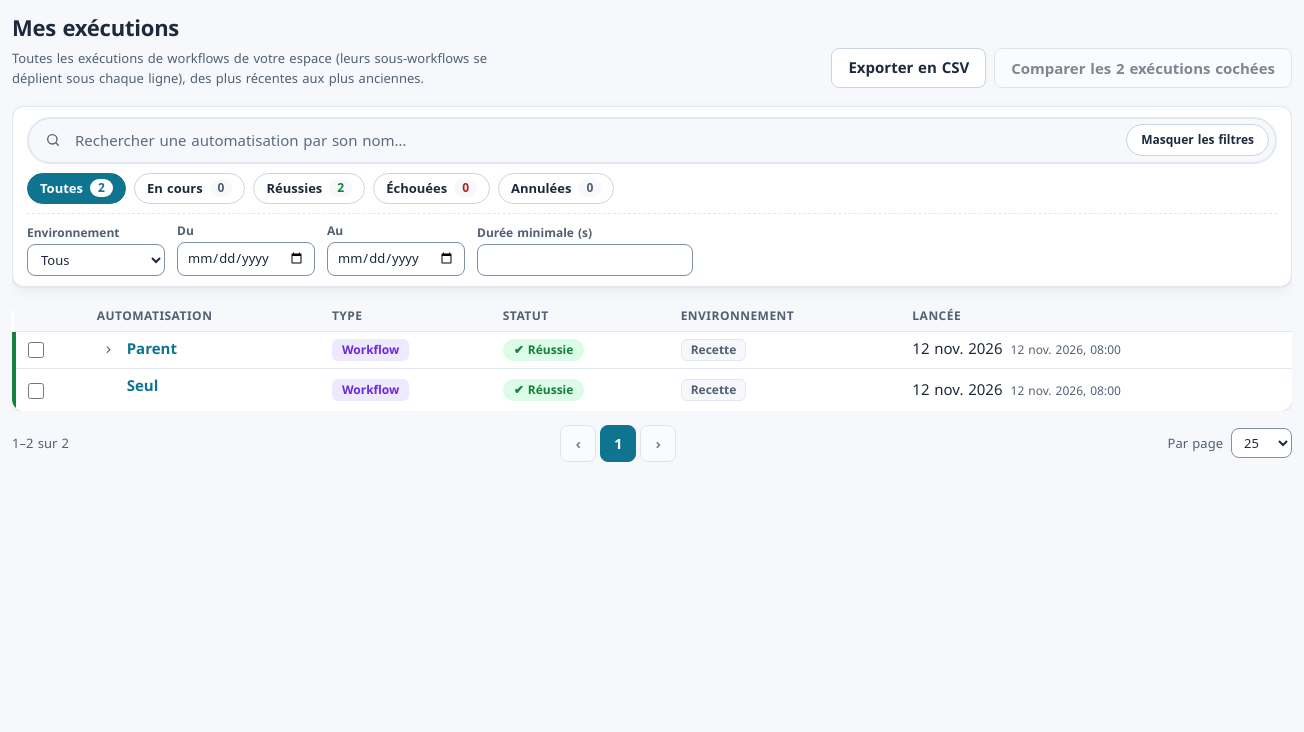
Exécutions : sous-workflows repliables sous leur parent › déplier montre le sous-workflow (étape, type), replier le masque, et un sous-workflow se déplie à son tour
The width and height of the screenshot is (1304, 732).
Step 1. Click the button named "Déplier les sous-workflows de Parent" → [109, 350], box [97, 338, 121, 362]
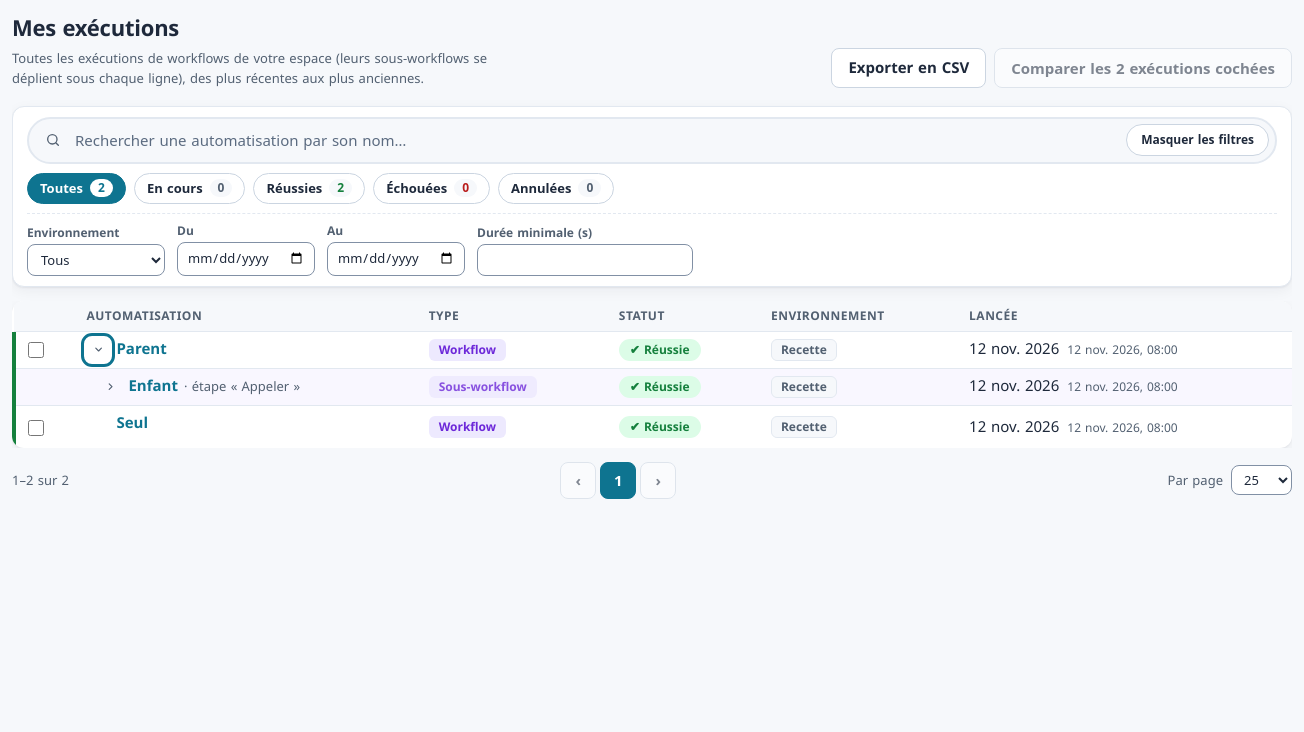
Expected: the text "· étape « Appeler »" is shown, [184, 377, 300, 396]
Expected: the text "Sous-workflow" is shown, [429, 376, 537, 398]
Step 2. Click the button named "Déplier les sous-workflows de Enfant" → [110, 387], box [98, 375, 122, 399]
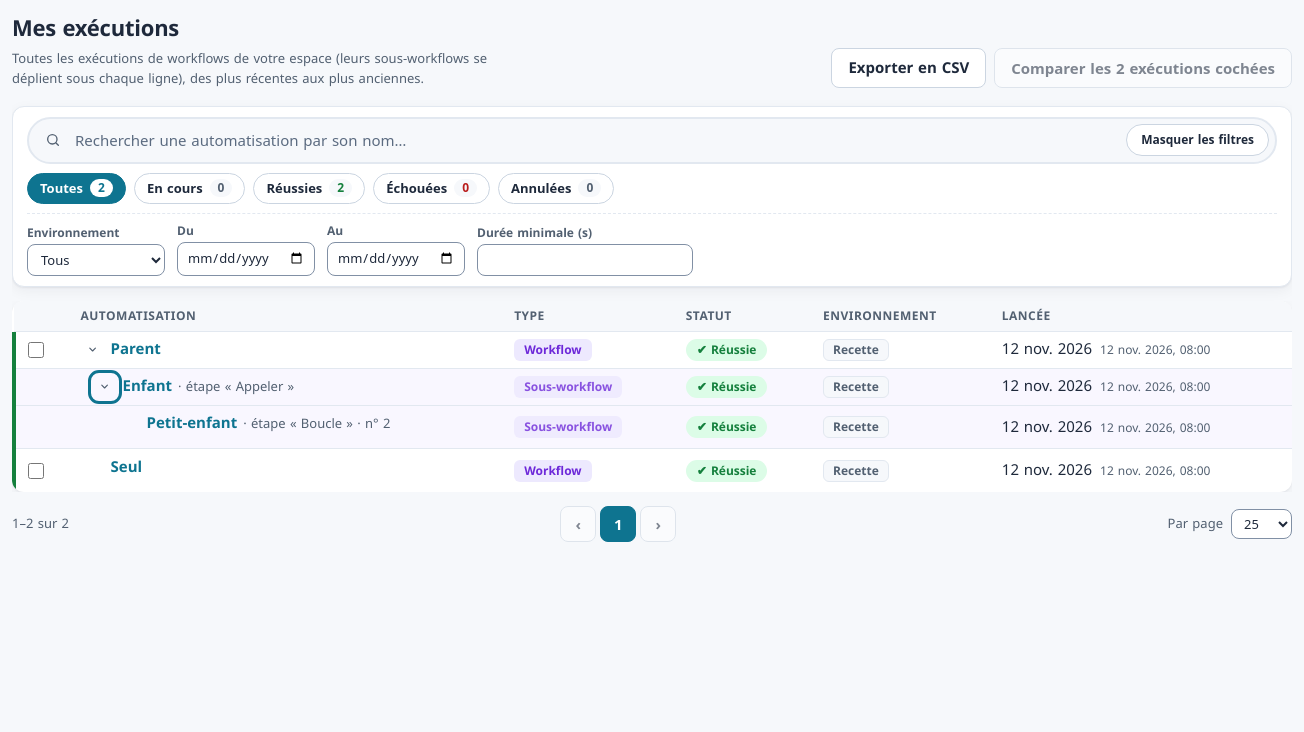
Expected: the text "· étape « Boucle » · n° 2" is shown, [243, 414, 390, 433]
Step 3. Click the button named "Replier les sous-workflows de Parent" → [92, 350], box [80, 338, 104, 362]
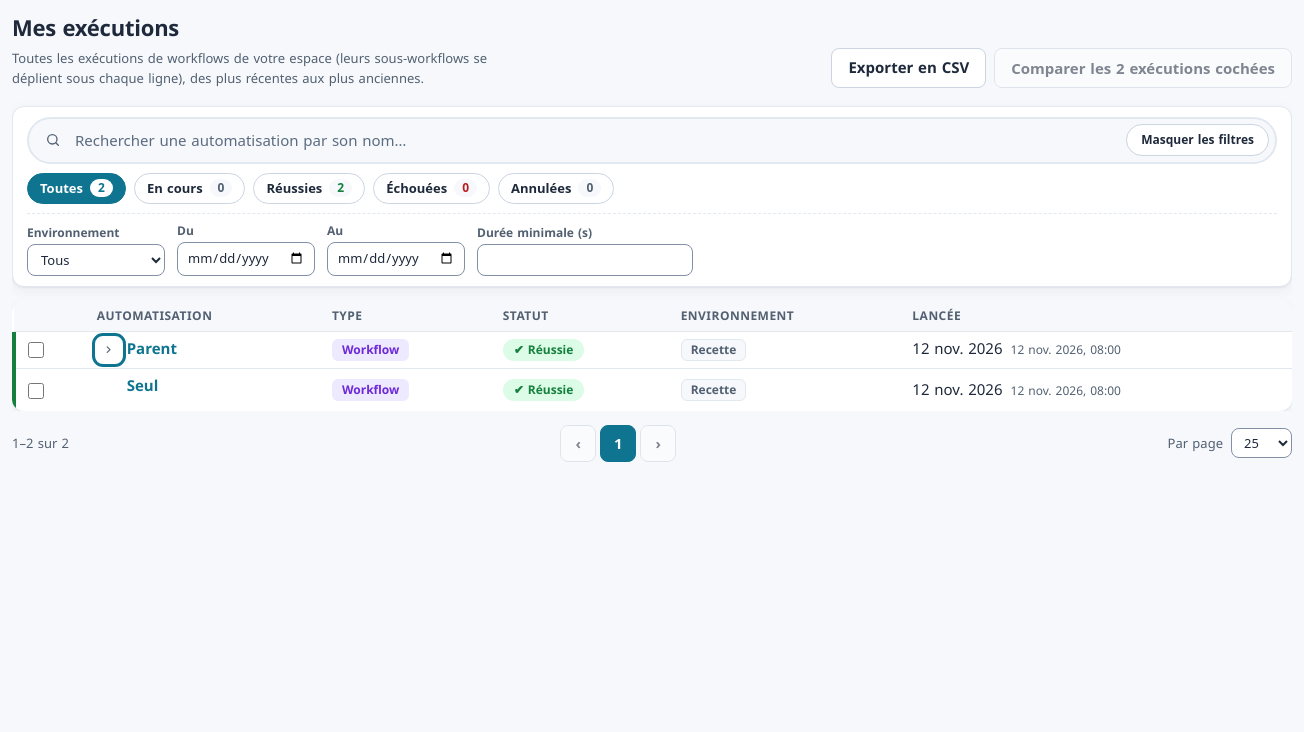
Expected: the link "Enfant" is gone
Expected: the link "Petit-enfant" is gone
